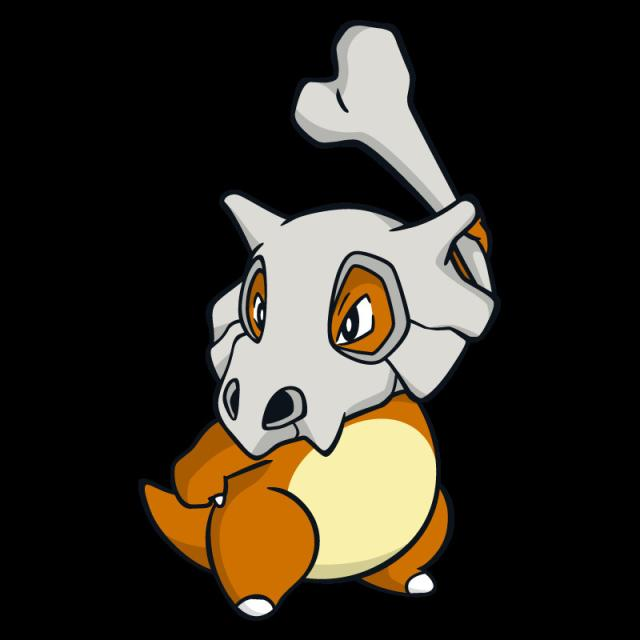Cubone: (170, 15, 508, 622)
